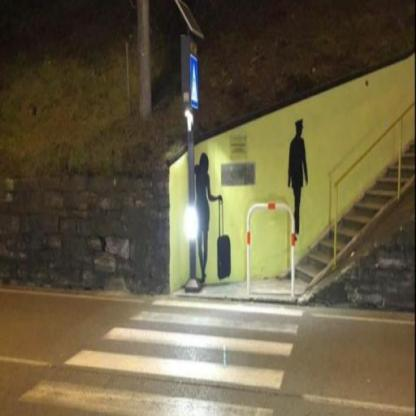crosswalk: (58, 325, 298, 392)
